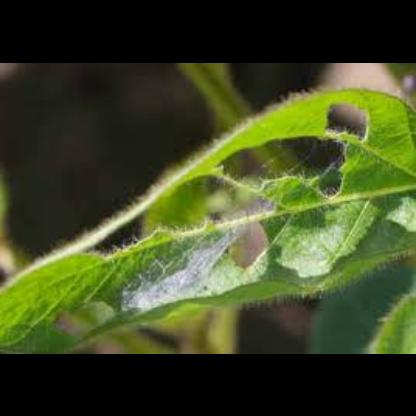agujero: (135, 163, 277, 245), (206, 129, 352, 200), (45, 292, 117, 334), (224, 217, 275, 271), (321, 96, 375, 146)
